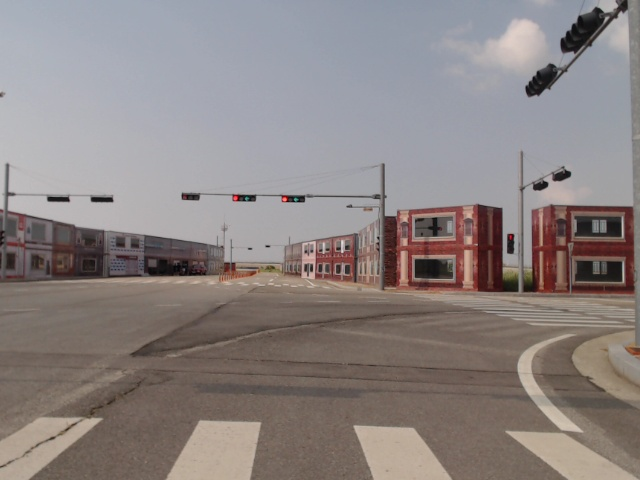left_green_4: (232, 195, 256, 202), (281, 195, 305, 202)
